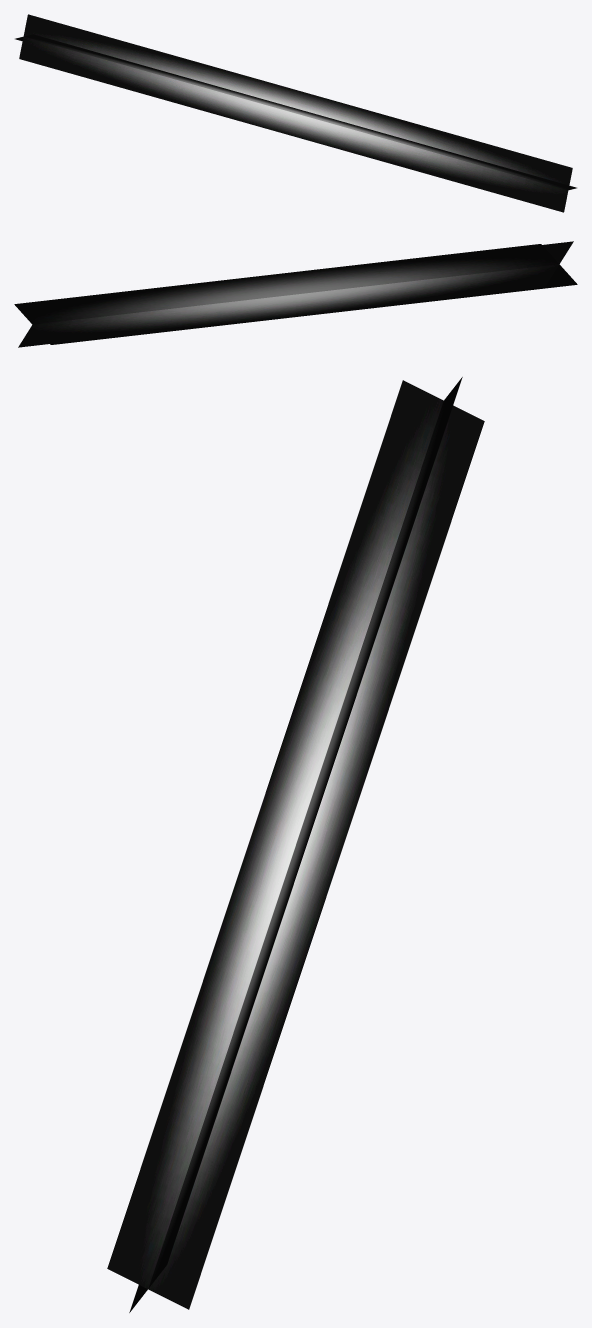
Rendered from vfx_kurp_1014.dae.
3 views of the same model, one above another, from view 1: azimuth 30°, elevation 25°; view 2: azimuth 150°, elevation 25°; view 3: azimuth 270°, elevation 25° (orthographic). The views are drawn at different scales.
Visible parts, largest first — view 1: vfx_kurp_1014; view 2: vfx_kurp_1014; view 3: vfx_kurp_1014.
Boxes of the visible parts, <box> form: vfx_kurp_1014: <box>15,14,576,212</box>; vfx_kurp_1014: <box>14,241,577,347</box>; vfx_kurp_1014: <box>107,377,484,1312</box>.
Size of the model in its own units: 9.7 by 3.24 by 4.69.
1 material, 1 textured.
